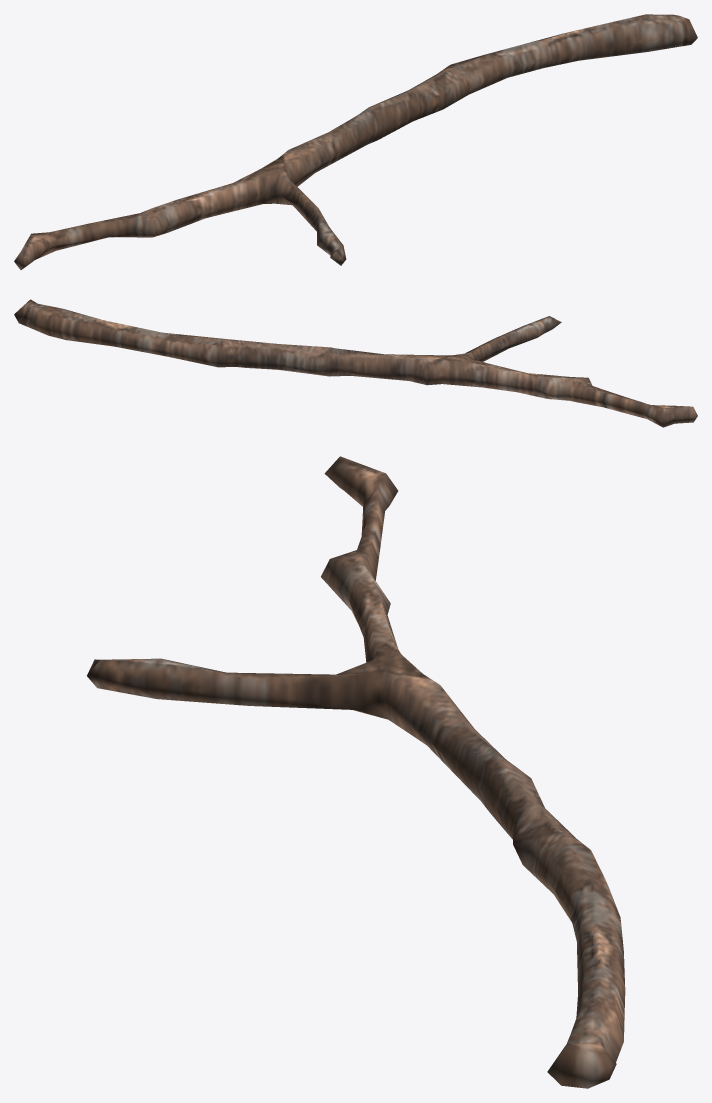
The model's file is Tree_Twig02.fbx.
The picture shows the model from 3 angles, top to bottom: view 1: azimuth 30°, elevation 25°; view 2: azimuth 150°, elevation 25°; view 3: azimuth 270°, elevation 25°; orthographic projection. The views are drawn at different scales.
Visible parts, largest first — view 1: Tree_Twig02; view 2: Tree_Twig02; view 3: Tree_Twig02.
Part boxes in pixels (box(x1,y1,x2,y2)): Tree_Twig02: box(14, 14, 697, 269); Tree_Twig02: box(14, 299, 697, 427); Tree_Twig02: box(87, 456, 625, 1088).
Bounding box in the file's own units: 63.95 × 3.27 × 24.11.
1 material, 1 textured.
